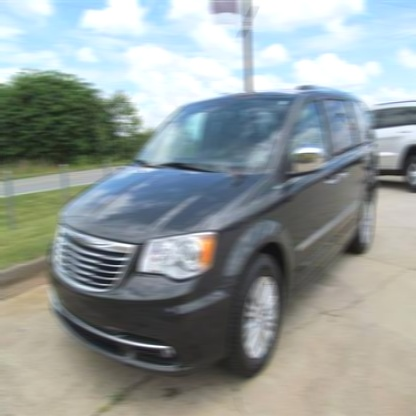Vehicle: (44, 86, 379, 380)
